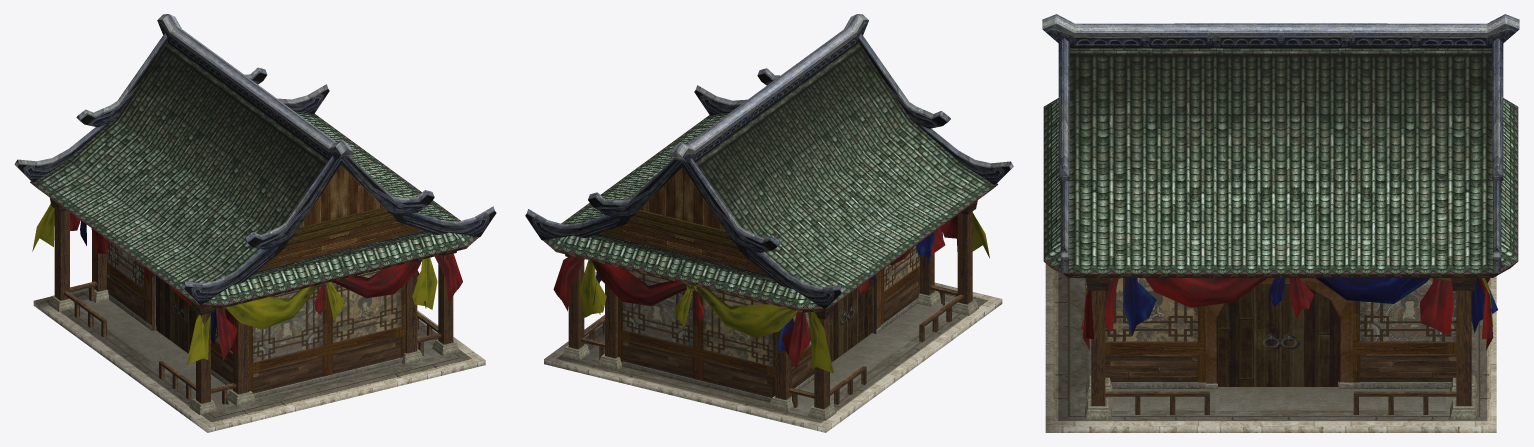
Rendered from c1-032-shamanhouse.fbx.
3 renders of one model, left to right at view 1: azimuth 30°, elevation 25°; view 2: azimuth 150°, elevation 25°; view 3: azimuth 270°, elevation 25°, orthographic. The views are drawn at different scales.
Parts seen in each view (by area): view 1: 1; view 2: 1; view 3: 1.
Boxes of the visible parts, x1,y1,x2,y2 form: 1: (14, 14, 496, 432); 1: (525, 14, 1013, 432); 1: (1042, 14, 1519, 432).
Bounding box in the file's own units: 9.89 × 7.73 × 10.11.
